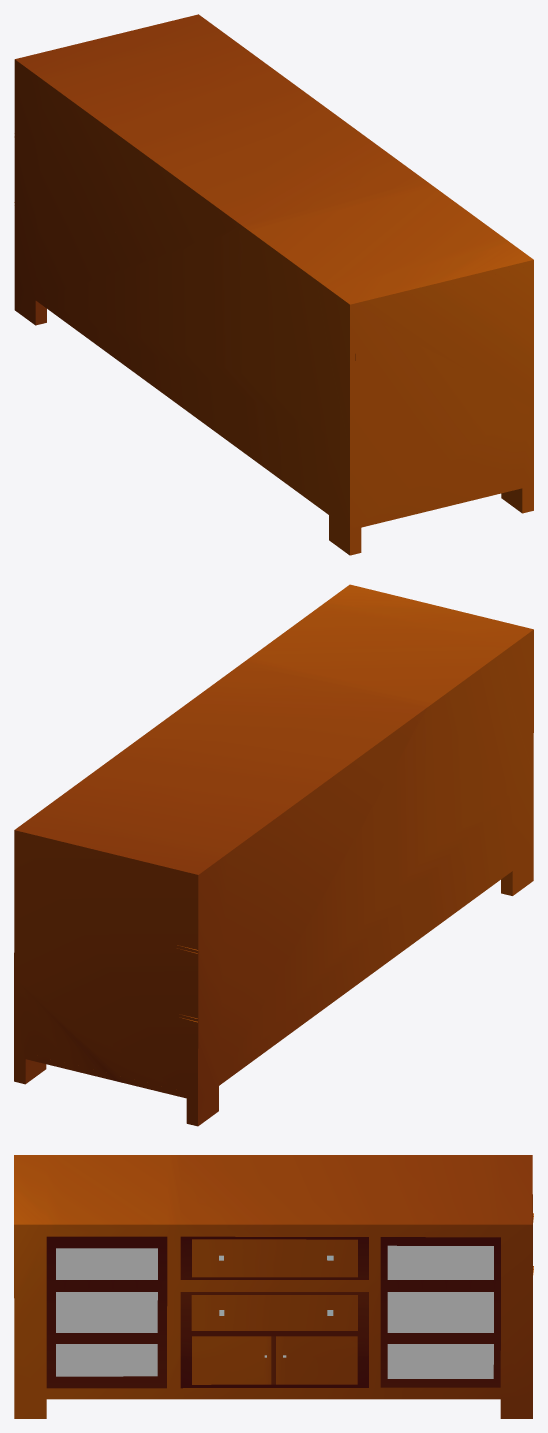
File: Estante2.fbx
3 views of the same model, one above another, from view 1: azimuth 30°, elevation 25°; view 2: azimuth 150°, elevation 25°; view 3: azimuth 270°, elevation 25° (orthographic). The views are drawn at different scales.
Visible parts, largest first — view 1: Cube; view 2: Cube; view 3: Cube.
Part boxes in pixels (x1,y1,x2,y2): Cube: [14, 14, 533, 555]; Cube: [14, 584, 533, 1126]; Cube: [14, 1155, 533, 1418].
Bounding box in the file's own units: 200 × 261 × 633.
